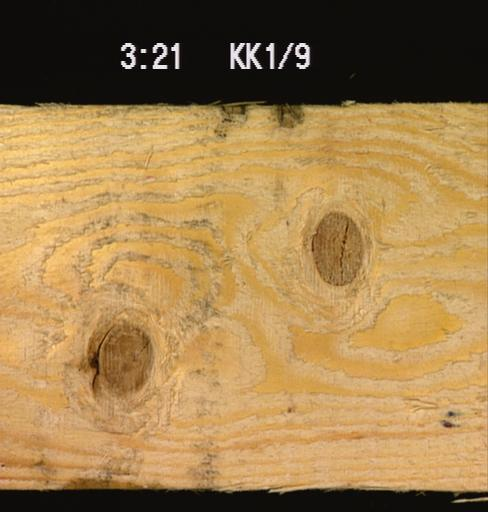dry_knot: (88, 314, 159, 404)
sound_knot: (307, 210, 366, 289)
wave: (63, 468, 120, 488)
